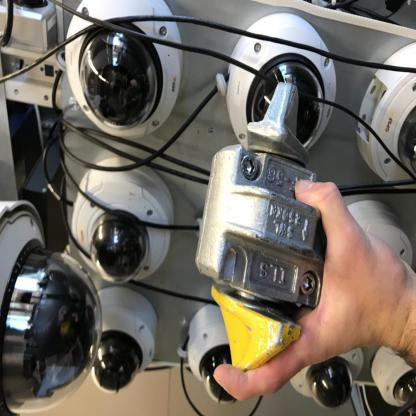Twistlock: (188, 71, 334, 382)
